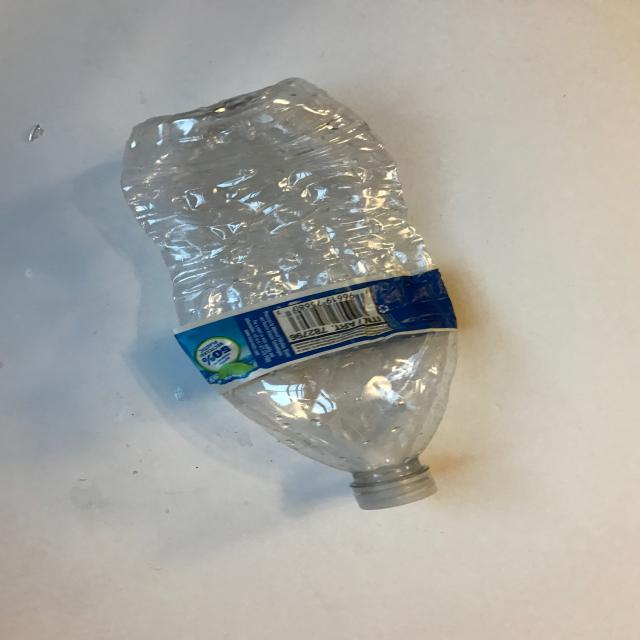plastic: (120, 76, 459, 510)
